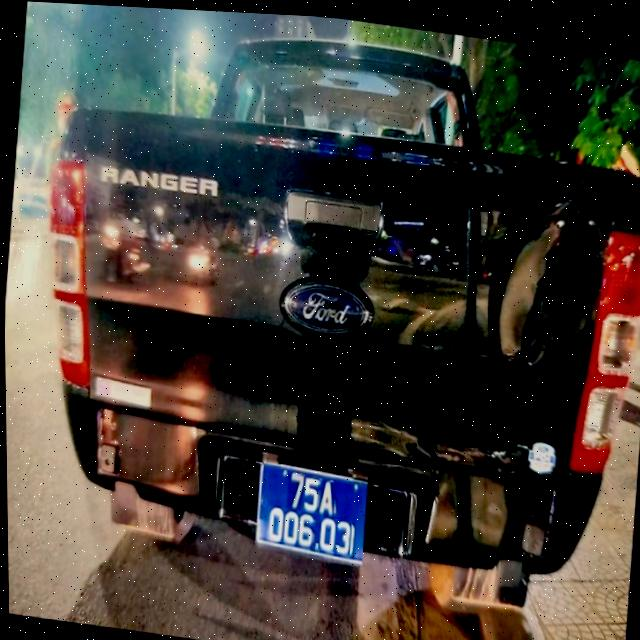car: (26, 14, 640, 634)
plate: (246, 458, 375, 568)
